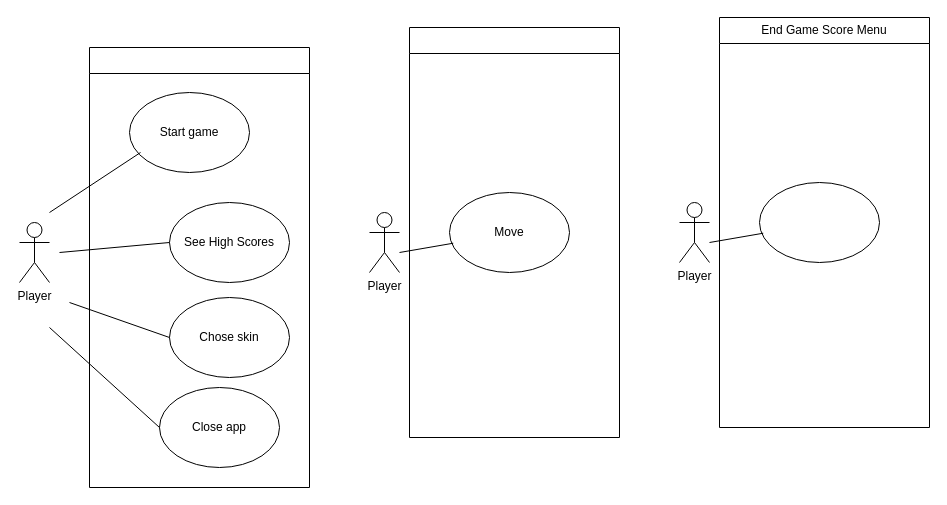
Some shapes in this 947 by 505 pixel diagram are drawn without their labels. The box of each missing label's shape, as (x1, y1, x2, y2) in pixels:
Enter Name: (758, 182, 880, 262)
Game: (408, 26, 620, 438)
Menu Principal: (88, 46, 310, 488)
